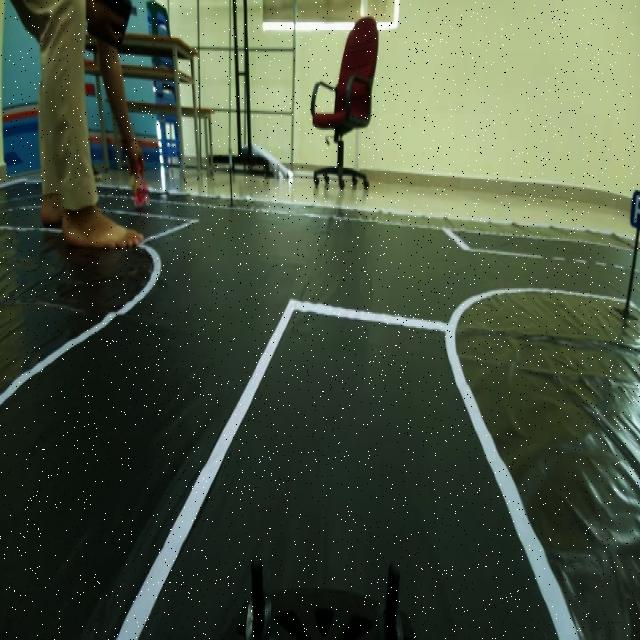parking: (629, 186, 640, 234)
